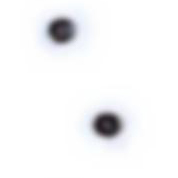cancer: (69, 91, 142, 154), (31, 7, 94, 63)
